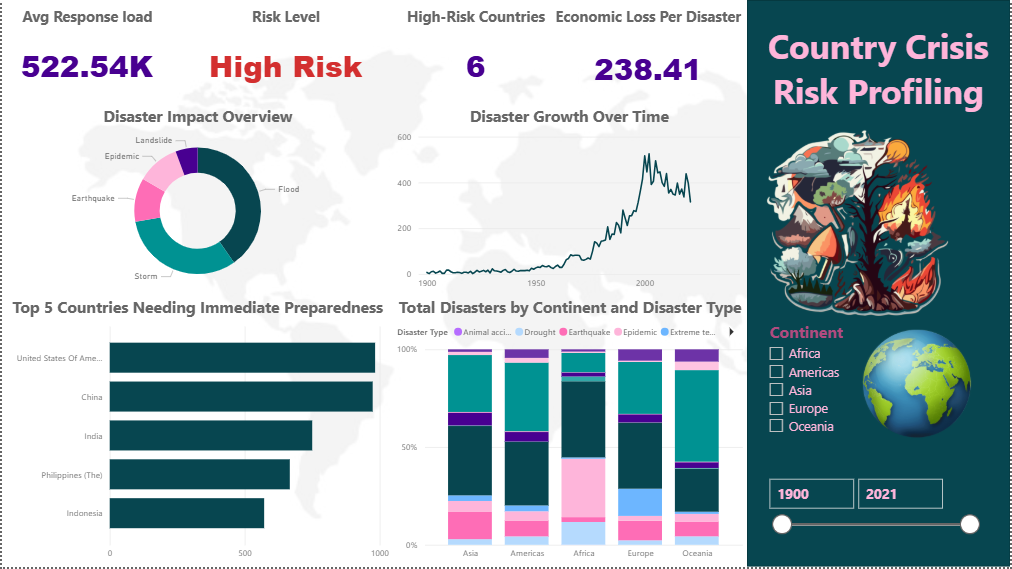

Layout of this report page (visuals, bound fields, positions):
{"tool":"powerbi","page":{"name":"Dashboard","canvas":[1280,720],"ordinal":0},"visuals":[{"type":"image","box":[0,1.6,1279.4,719],"z":0},{"type":"shape","box":[946.3,0,334.3,719.4],"z":1000},{"type":"lineChart","title":"Disaster Growth Over Time","fields":{"Category":["Sheet1.Year"],"Y":["Sheet1.Total Disasters"]},"box":[497.1,132.9,447.1,242.9],"z":2000},{"type":"hundredPercentStackedColumnChart","fields":{"Category":["Sheet1.Continent"],"Y":["Sheet1.Total Disasters"],"Series":["Sheet1.Disaster Type"]},"box":[497,376.1,449.3,343.3],"z":3000},{"type":"donutChart","title":"Disaster Impact Overview","fields":{"Category":["Sheet1.Disaster Type"],"Y":["Sheet1.Total Disasters"]},"box":[0,133.3,497.3,242.7],"z":4000},{"type":"clusteredBarChart","title":"Top 5 Countries Needing Immediate Preparedness","fields":{"Category":["Sheet1.Country"],"Y":["Sheet1.Total Disasters"]},"box":[0,376.2,496.8,342.9],"z":5000},{"type":"slicer","fields":{"Values":["Sheet1.Continent"]},"box":[962.7,403,220.9,180.6],"z":6000},{"type":"textbox","box":[946,23.8,333.3,130.2],"z":7000},{"type":"slicer","fields":{"Values":["Sheet1.Year"]},"box":[962.7,583.6,288.1,117.9],"z":8000},{"type":"image","box":[1073,379.4,176.2,228.6],"z":9000},{"type":"card","title":"Avg Response load","fields":{"Values":["Sheet1.Avg Response Load"]},"box":[0,7.5,216.4,125.4],"z":10000},{"type":"card","title":"Risk Level","fields":{"Values":["Sheet1.Risk Level"]},"box":[216.4,7.5,289.6,125.4],"z":11000},{"type":"card","title":"Economic Loss Per Disaster","fields":{"Values":["Sheet1.Economic Loss per Disaster"]},"box":[697,7.5,247.8,132.8],"z":12000},{"type":"card","title":"High-Risk Countries","fields":{"Values":["Sheet1.High-Risk Countries Count"]},"box":[506,7.5,191,125.4],"z":13000},{"type":"image","box":[946,141.3,279.4,288.9],"z":14000}]}

Visuals, with their boxes in screenshot pixels (x1, y1, x2, y2), scaled from the page's 1280x720 canvas onto the 1012x569 screenshot:
image: <region>0, 1, 1011, 568</region>
shape: <region>748, 0, 1011, 568</region>
"Disaster Growth Over Time" lineChart: <region>393, 105, 747, 297</region>
hundredPercentStackedColumnChart - Sheet1.Continent x Sheet1.Total Disasters: <region>393, 297, 748, 568</region>
"Disaster Impact Overview" donutChart: <region>0, 105, 393, 297</region>
"Top 5 Countries Needing Immediate Preparedness" clusteredBarChart: <region>0, 297, 393, 568</region>
slicer - Sheet1.Continent: <region>761, 318, 936, 461</region>
textbox: <region>748, 19, 1011, 122</region>
slicer - Sheet1.Year: <region>761, 461, 989, 554</region>
image: <region>848, 300, 988, 480</region>
"Avg Response load" card: <region>0, 6, 171, 105</region>
"Risk Level" card: <region>171, 6, 400, 105</region>
"Economic Loss Per Disaster" card: <region>551, 6, 747, 111</region>
"High-Risk Countries" card: <region>400, 6, 551, 105</region>
image: <region>748, 112, 969, 340</region>
